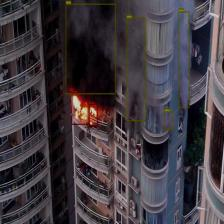fire: (72, 92, 88, 124), (89, 104, 98, 127)
smoke: (66, 3, 116, 94), (126, 18, 146, 121), (178, 11, 190, 108), (164, 111, 173, 129)
